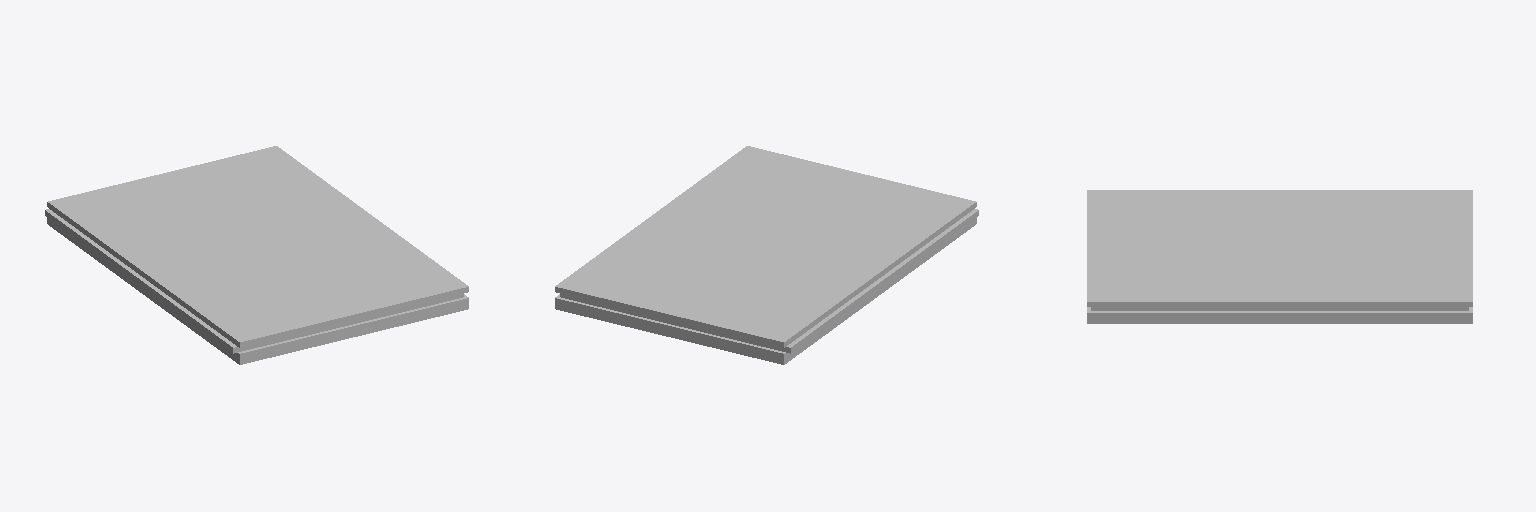
File: pappers_s.obj
3 views of the same model, side by side, from view 1: azimuth 30°, elevation 25°; view 2: azimuth 150°, elevation 25°; view 3: azimuth 270°, elevation 25° (orthographic).
Parts seen in each view (by area): view 1: pappers_s; view 2: pappers_s; view 3: pappers_s.
Boxes of the visible parts, <box> form: pappers_s: <box>45,146,468,364</box>; pappers_s: <box>555,146,978,364</box>; pappers_s: <box>1087,190,1472,323</box>.
Bounding box in the file's own units: 0.2935 × 0.0272 × 0.4183.